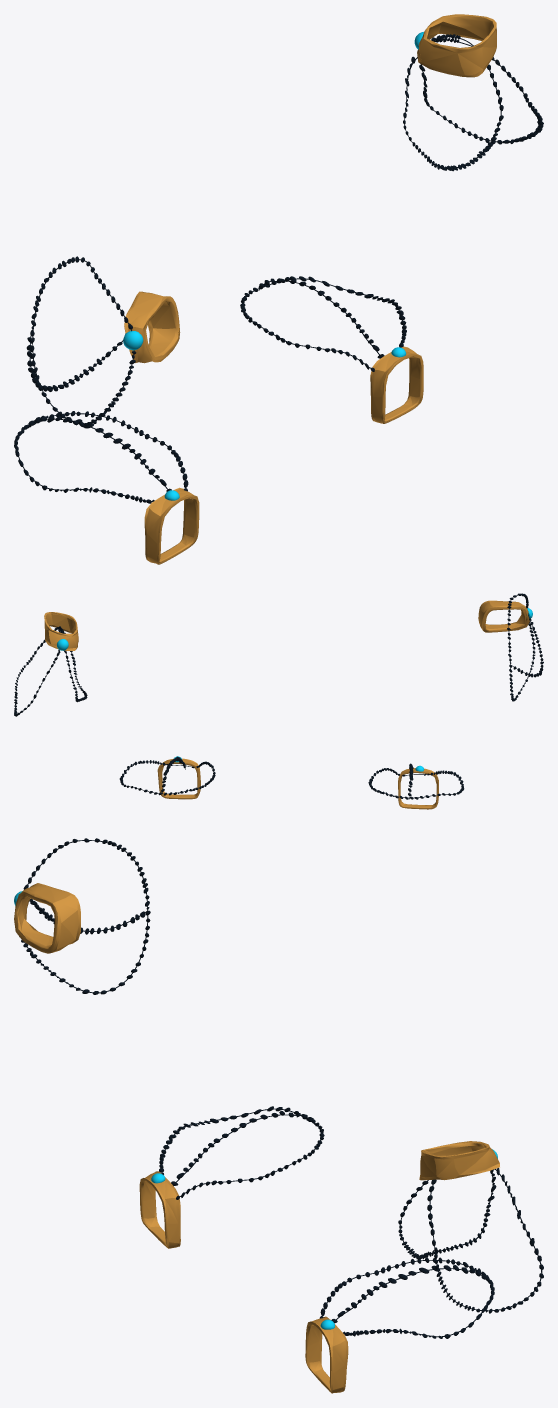
3 views of the same model, one above another, from view 1: azimuth 30°, elevation 25°; view 2: azimuth 150°, elevation 25°; view 3: azimuth 270°, elevation 25° (orthographic). The views are drawn at different scales.
Visible parts, largest first — view 1: accessories_jewels_feet, accessories_jewels_R, accessories_jewels_L, small_stones_003, small_stones_001, small_stones_005, small_stones_004, small_stones_002, small_stones; view 2: accessories_jewels_feet, small_stones_003, accessories_jewels_R, accessories_jewels_L, small_stones_001, small_stones_002, small_stones_005, small_stones_004; view 3: accessories_jewels_feet, accessories_jewels_L, small_stones_003, accessories_jewels_R, small_stones_005, small_stones_001, small_stones_002, small_stones_004.
Part boxes in pixels (x1=…): accessories_jewels_feet: x1=144, y1=346, x2=423, y2=564; accessories_jewels_R: x1=417, y1=14, x2=496, y2=77; accessories_jewels_L: x1=124, y1=291, x2=180, y2=363; small_stones_003: x1=14, y1=276, x2=406, y2=503; small_stones_001: x1=30, y1=256, x2=136, y2=427; small_stones_005: x1=28, y1=277, x2=384, y2=491; small_stones_004: x1=403, y1=34, x2=503, y2=171; small_stones_002: x1=419, y1=37, x2=543, y2=144; small_stones: x1=26, y1=331, x2=123, y2=391; accessories_jewels_feet: x1=157, y1=758, x2=438, y2=809; small_stones_003: x1=119, y1=760, x2=464, y2=799; accessories_jewels_R: x1=44, y1=612, x2=78, y2=650; accessories_jewels_L: x1=478, y1=600, x2=529, y2=632; small_stones_001: x1=507, y1=593, x2=535, y2=701; small_stones_002: x1=14, y1=627, x2=63, y2=716; small_stones_005: x1=161, y1=756, x2=413, y2=799; small_stones_004: x1=58, y1=626, x2=87, y2=702; accessories_jewels_feet: x1=139, y1=1171, x2=348, y2=1393; accessories_jewels_L: x1=14, y1=883, x2=80, y2=953; small_stones_003: x1=159, y1=1106, x2=494, y2=1338; accessories_jewels_R: x1=419, y1=1141, x2=499, y2=1180; small_stones_005: x1=171, y1=1110, x2=488, y2=1323; small_stones_001: x1=19, y1=838, x2=150, y2=994; small_stones_002: x1=427, y1=1168, x2=543, y2=1313; small_stones_004: x1=398, y1=1169, x2=496, y2=1259.
Bounding box in the file's own units: 125 × 85.9 × 61.43.
